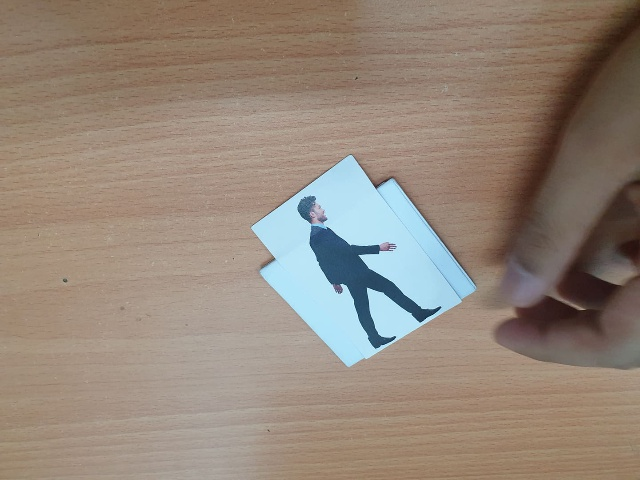Person: (296, 195, 443, 345)
